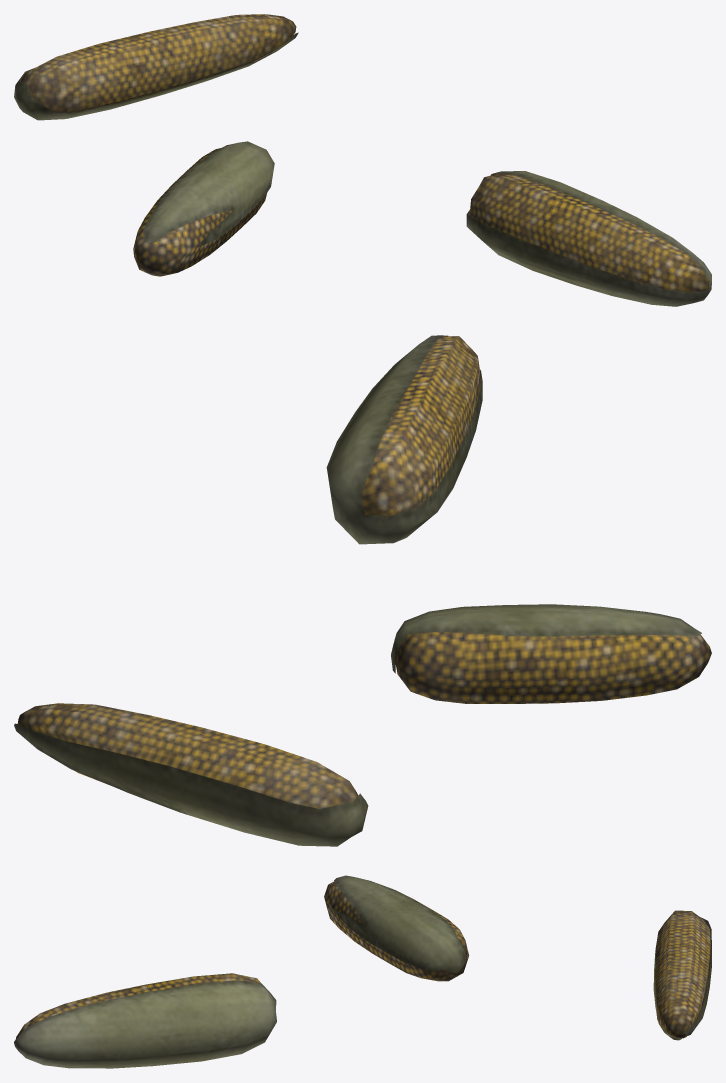
The model's file is SM_FAR_ScatteredCorns_01.fbx.
The picture shows the model from 3 angles, top to bottom: view 1: azimuth 30°, elevation 25°; view 2: azimuth 150°, elevation 25°; view 3: azimuth 270°, elevation 25°; orthographic projection. The views are drawn at different scales.
Visible parts, largest first — view 1: SM_FAR_ScatteredCorns_01.mo; view 2: SM_FAR_ScatteredCorns_01.mo; view 3: SM_FAR_ScatteredCorns_01.mo.
Boxes of the visible parts, left/top/right/bottom form: SM_FAR_ScatteredCorns_01.mo: left=14, top=14, right=711, bottom=306; SM_FAR_ScatteredCorns_01.mo: left=14, top=335, right=711, bottom=846; SM_FAR_ScatteredCorns_01.mo: left=14, top=875, right=711, bottom=1068.
Bounding box in the file's own units: 43.06 × 8.86 × 74.35.
